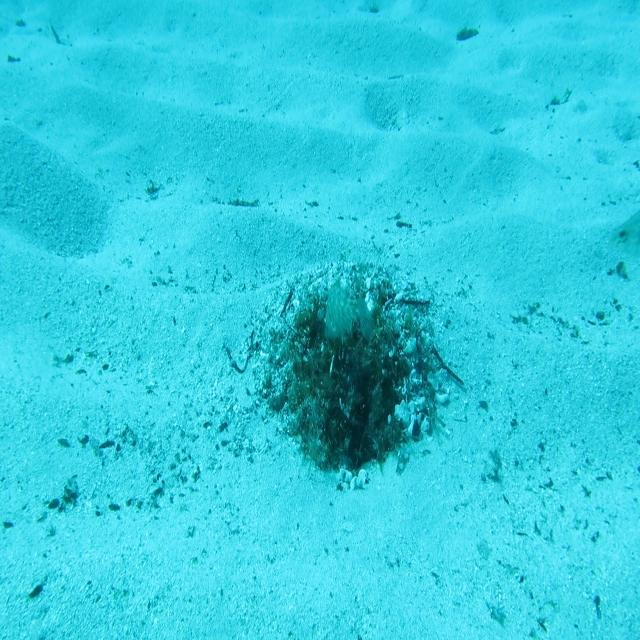NIP_CORE: (321, 278, 375, 347)
core_nest: (318, 316, 364, 350)
female: (608, 208, 640, 264)
nest: (237, 252, 457, 499)
vegetation: (455, 27, 480, 42)
